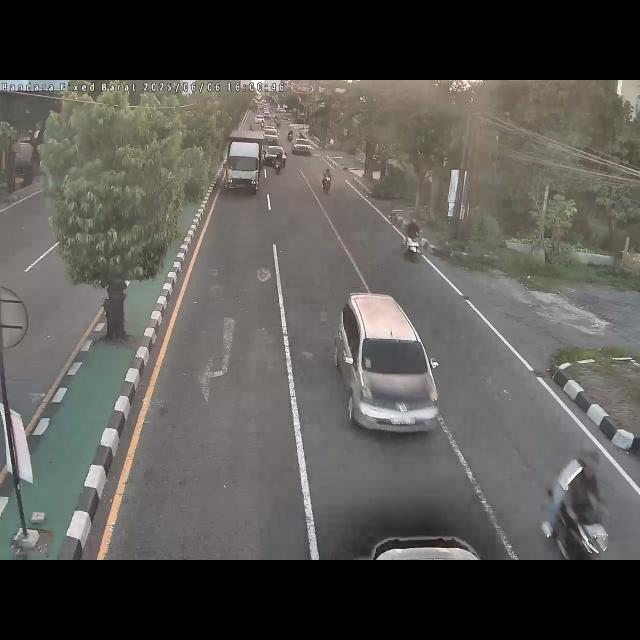Mobil: (332, 292, 440, 438), (370, 534, 480, 560), (264, 146, 286, 168), (292, 138, 314, 156)
Motor: (538, 447, 612, 559), (402, 218, 422, 262), (321, 168, 331, 195), (274, 152, 284, 174)
Truk: (225, 131, 262, 193)
